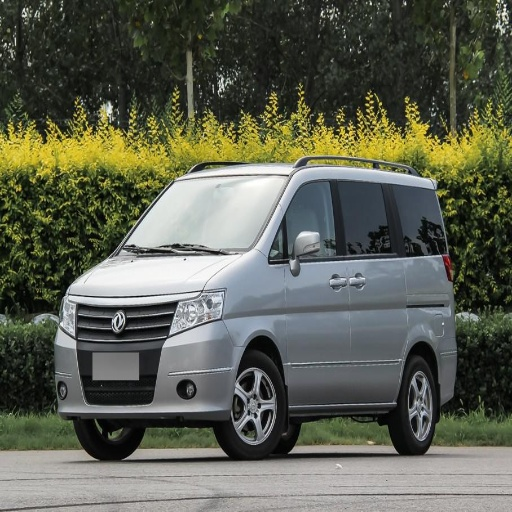front_bumper: (52, 291, 245, 423)
front_glass: (121, 178, 287, 255)
front_left_door: (269, 173, 359, 403)
trunk: (405, 283, 448, 369)
